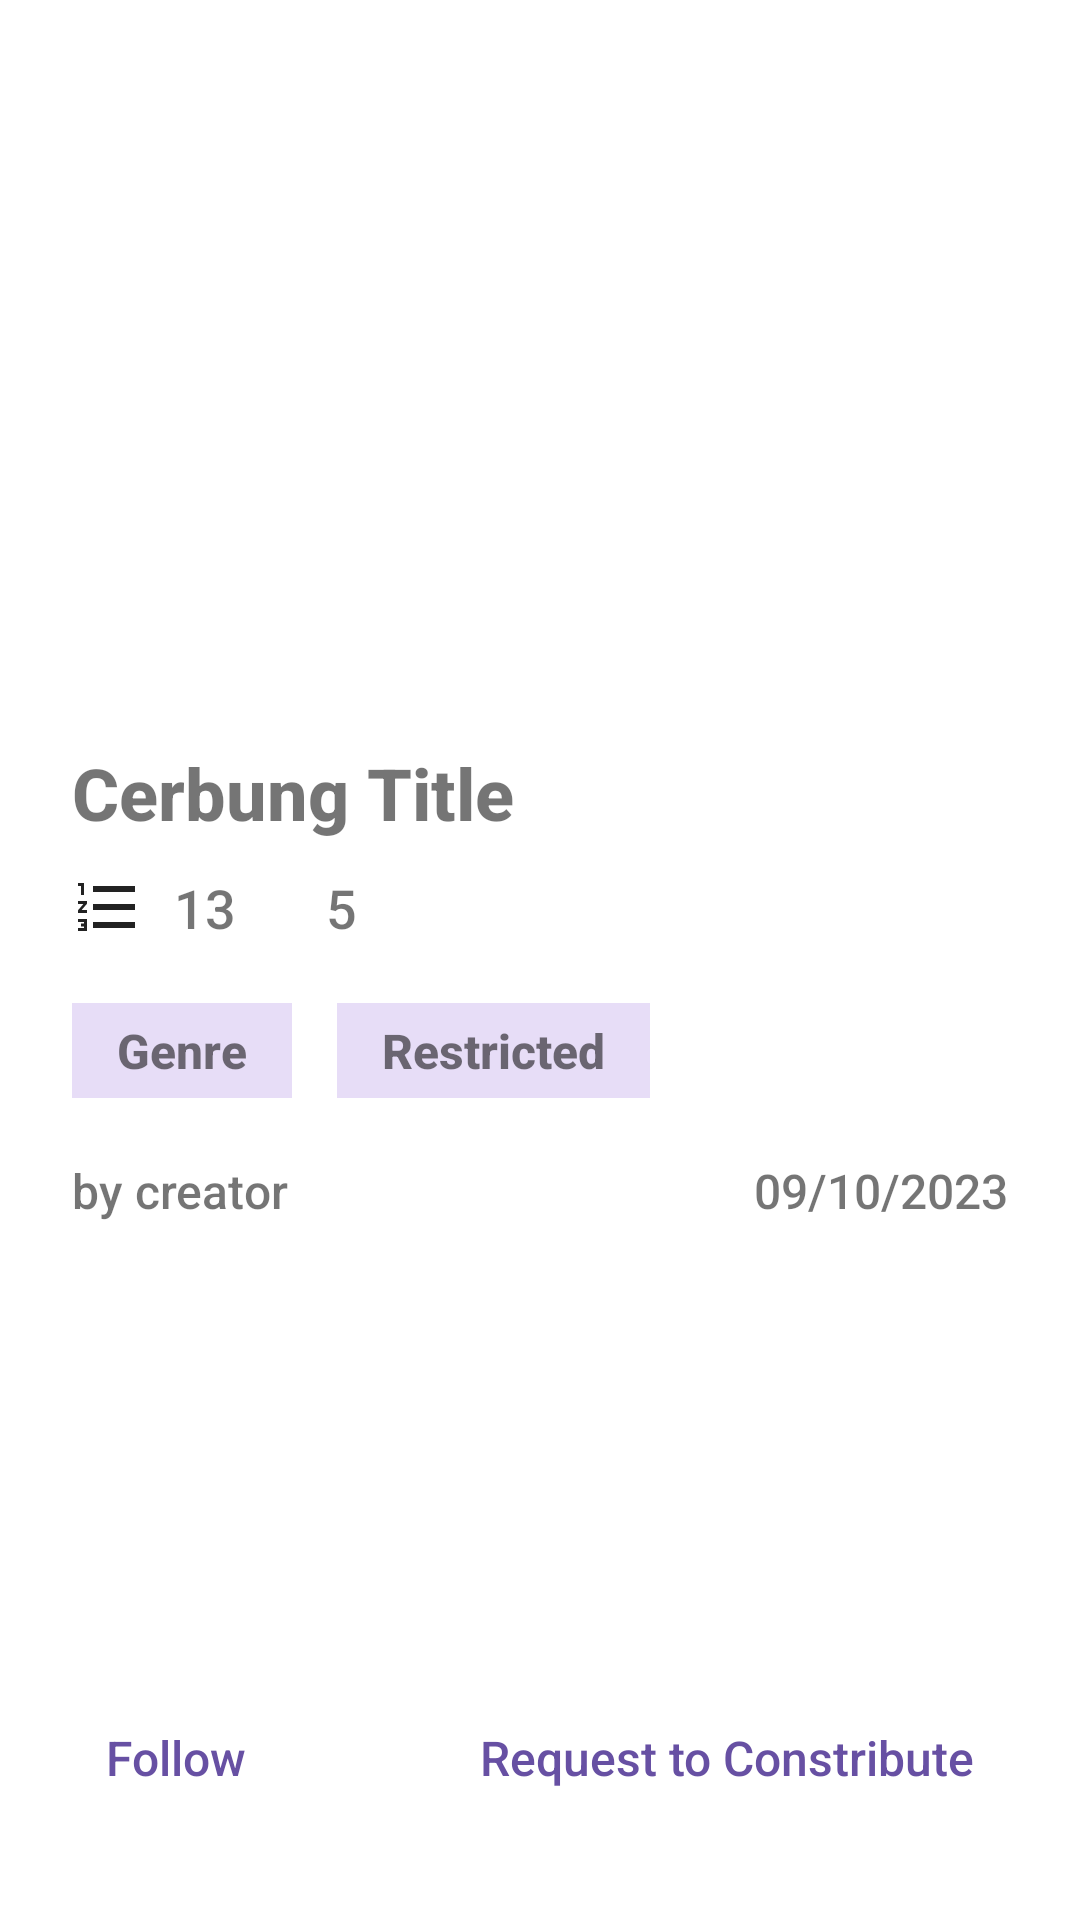

Point at icon controls on the screen. Image size 1080 × 1920, points as (x,y).
format list numbered: (106,907)
